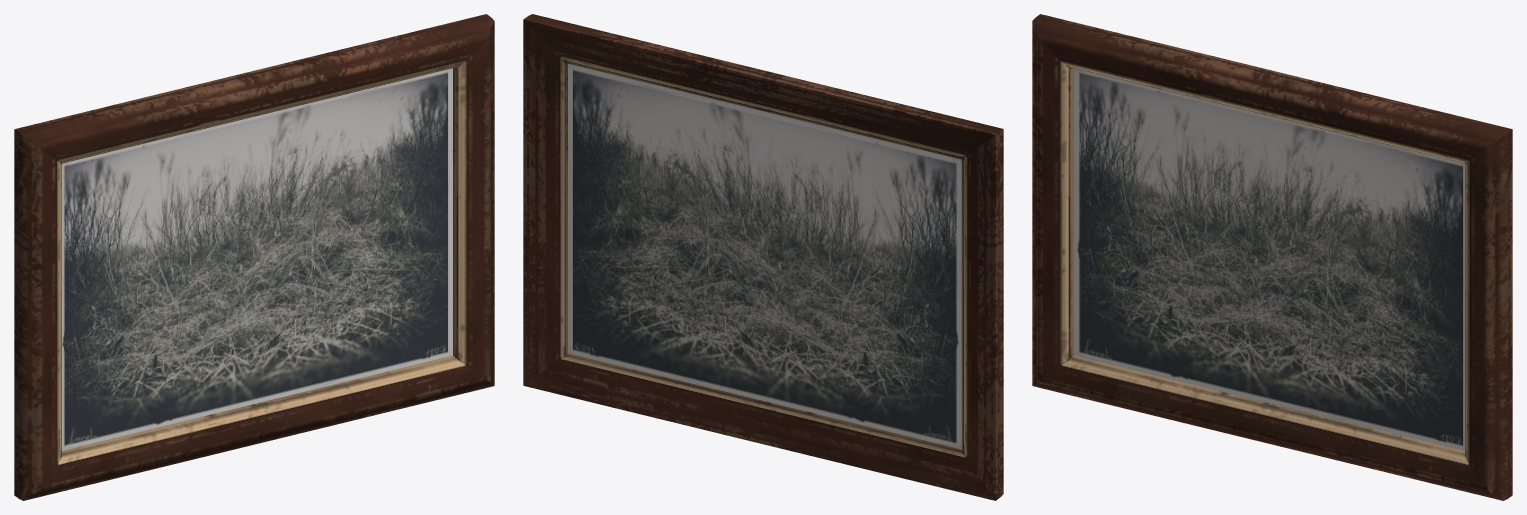
The model's file is Picture_10_Medium_Framed.FBX.
3 renders of one model, left to right at view 1: azimuth 30°, elevation 25°; view 2: azimuth 150°, elevation 25°; view 3: azimuth 330°, elevation 25°, orthographic.
Visible parts, largest first — view 1: Picture_10_Medium_Framed; view 2: Picture_10_Medium_Framed; view 3: Picture_10_Medium_Framed.
Boxes of the visible parts, x1=… form: Picture_10_Medium_Framed: x1=14, y1=14, x2=494, y2=500; Picture_10_Medium_Framed: x1=523, y1=14, x2=1003, y2=500; Picture_10_Medium_Framed: x1=1032, y1=14, x2=1512, y2=500.
Bounding box in the file's own units: 95.26 × 70.59 × 4.49.
